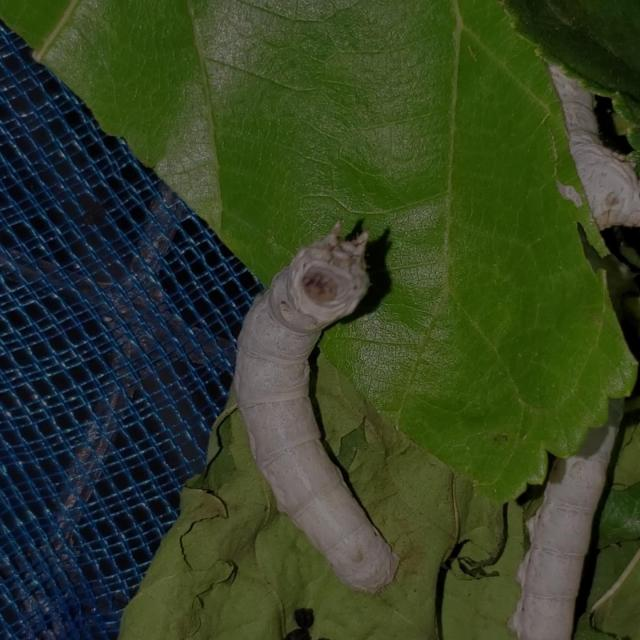Healthy: (213, 213, 431, 599)
